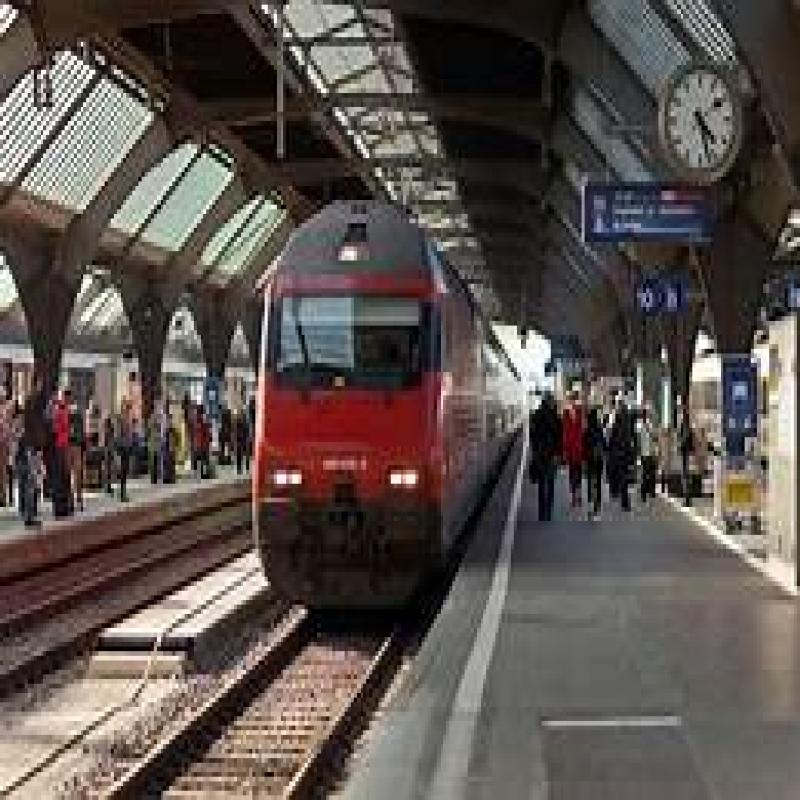train: (253, 178, 469, 624)
